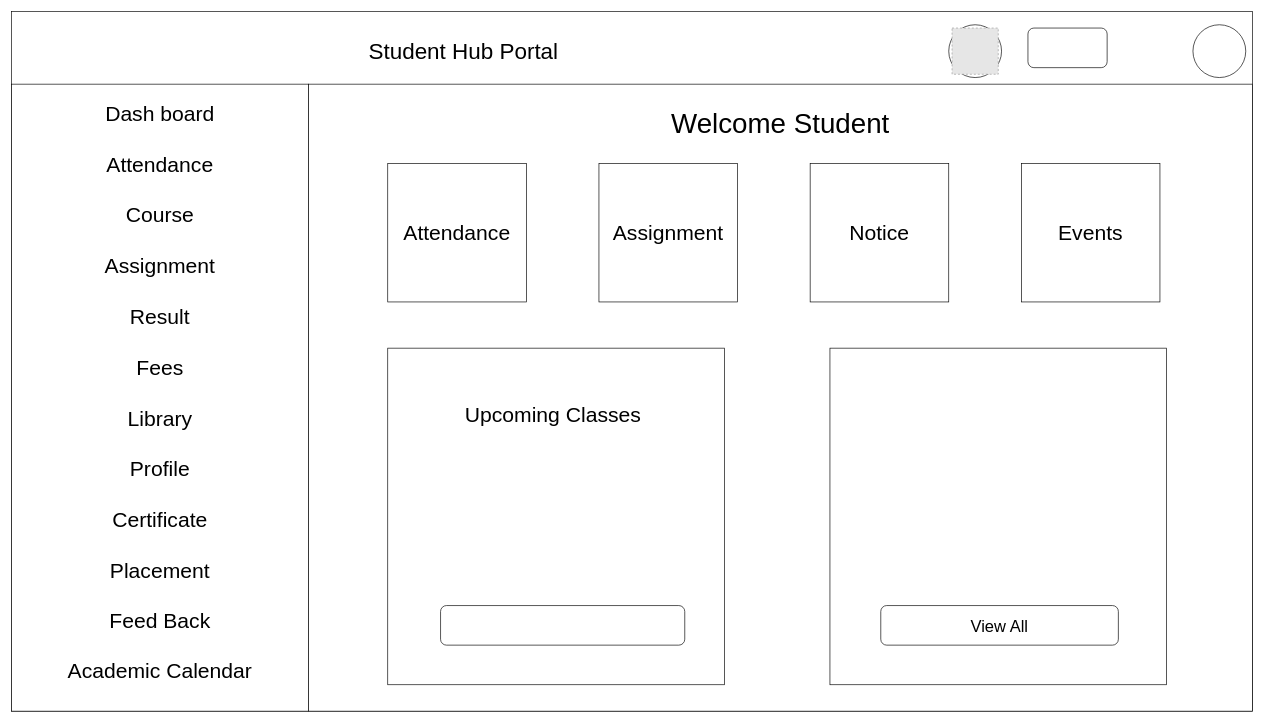
The diagram is 1264 pixels wide and 723 high, and some of its shapes have lost their labels. Grey dashed boxes stand in for pictures. The box of each missing label's shape, as (x1, y1, x2, y2) in pixels:
Latest Notice: (829, 347, 1167, 685)
Name: (1027, 27, 1107, 68)
Setting: (1192, 24, 1246, 78)
View Time Table: (440, 605, 685, 645)
